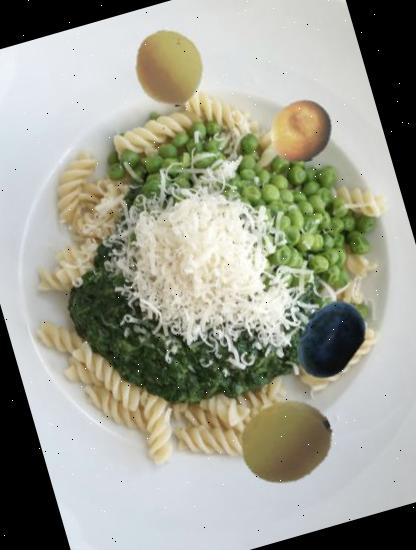Blueberry: (278, 287, 381, 390)
Kumquats: (262, 91, 342, 171)
Peach: (226, 382, 344, 500), (122, 19, 218, 116)
